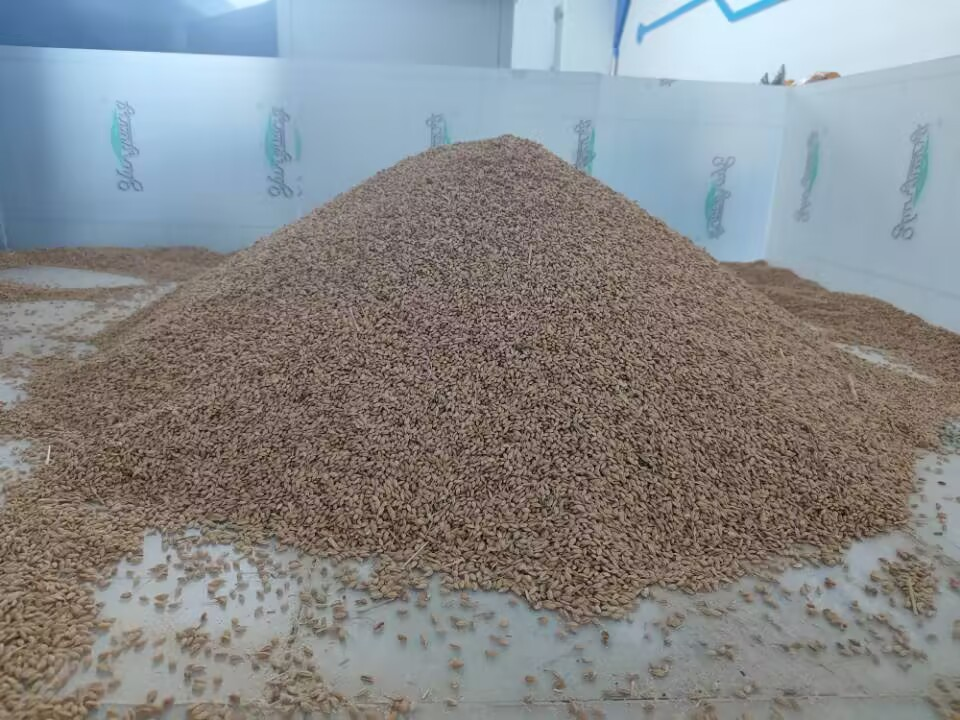Grain: (192, 132, 797, 506)
